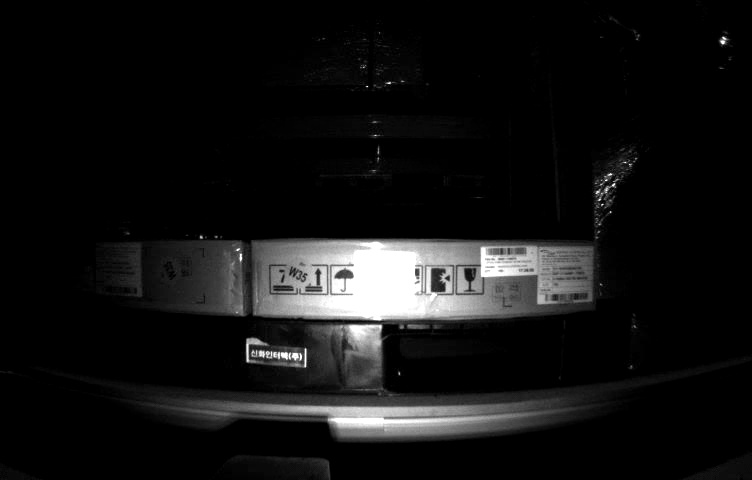True Barcode: (352, 247, 412, 306)
